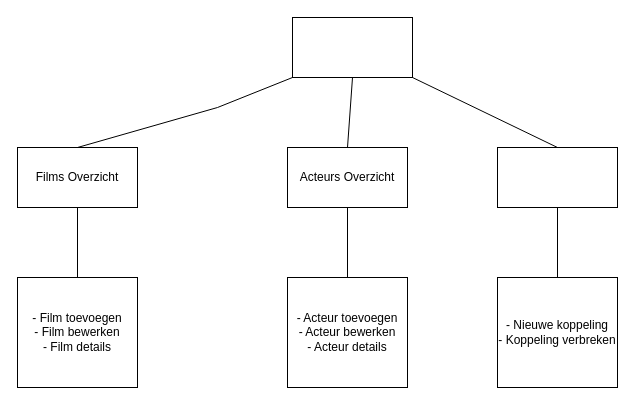
Some shapes in this 635 by 405 pixel diagram are drawn without their labels. Here are the shapes that lost their labels. From the top down, the centre of each, then its label:
At pixel 352 47: "Home".
At pixel 557 177: "Koppelingen Overzicht".
